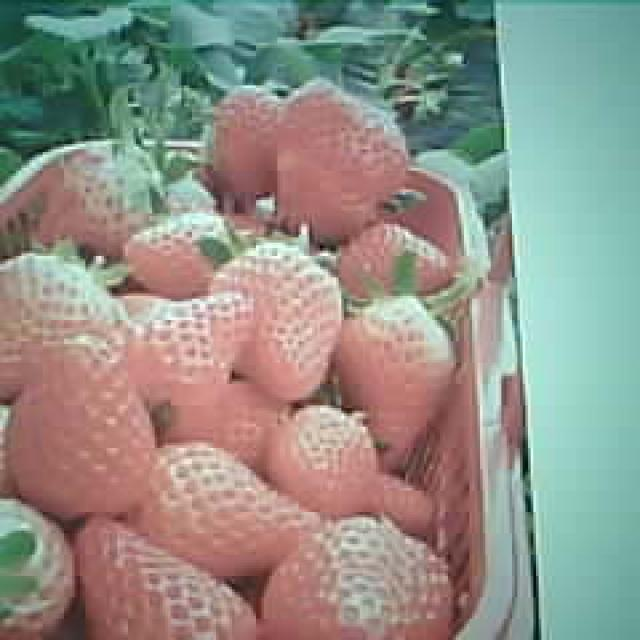strawberry: (9, 334, 154, 512), (266, 512, 456, 640), (77, 511, 253, 640), (276, 80, 408, 236), (343, 290, 455, 467), (212, 249, 342, 391)
